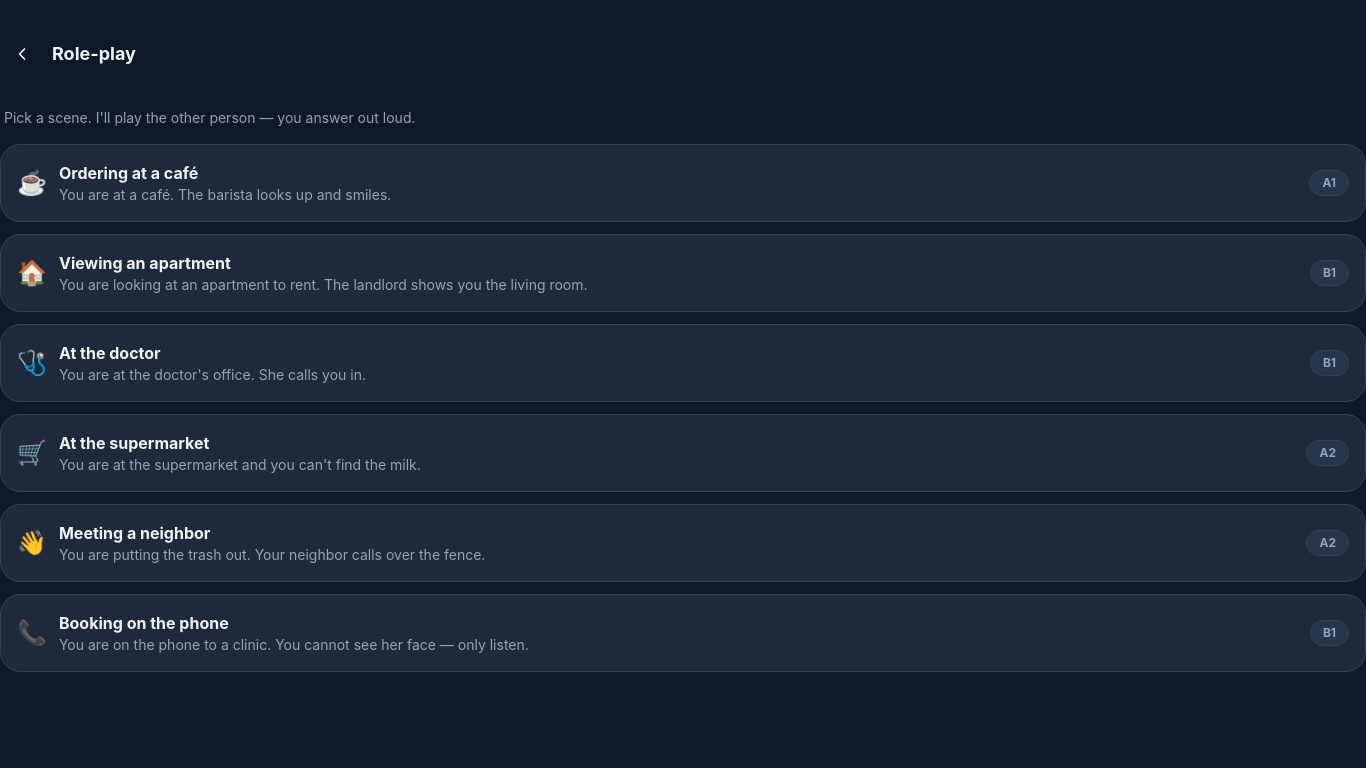
Test case: Role-play, one scene through to the end › runs the whole conversation and records one speaking rep per line of hers
Click the button with test id "roleplay-cafe" at {"x": 129, "y": 173}, box [0,144,1365,222]
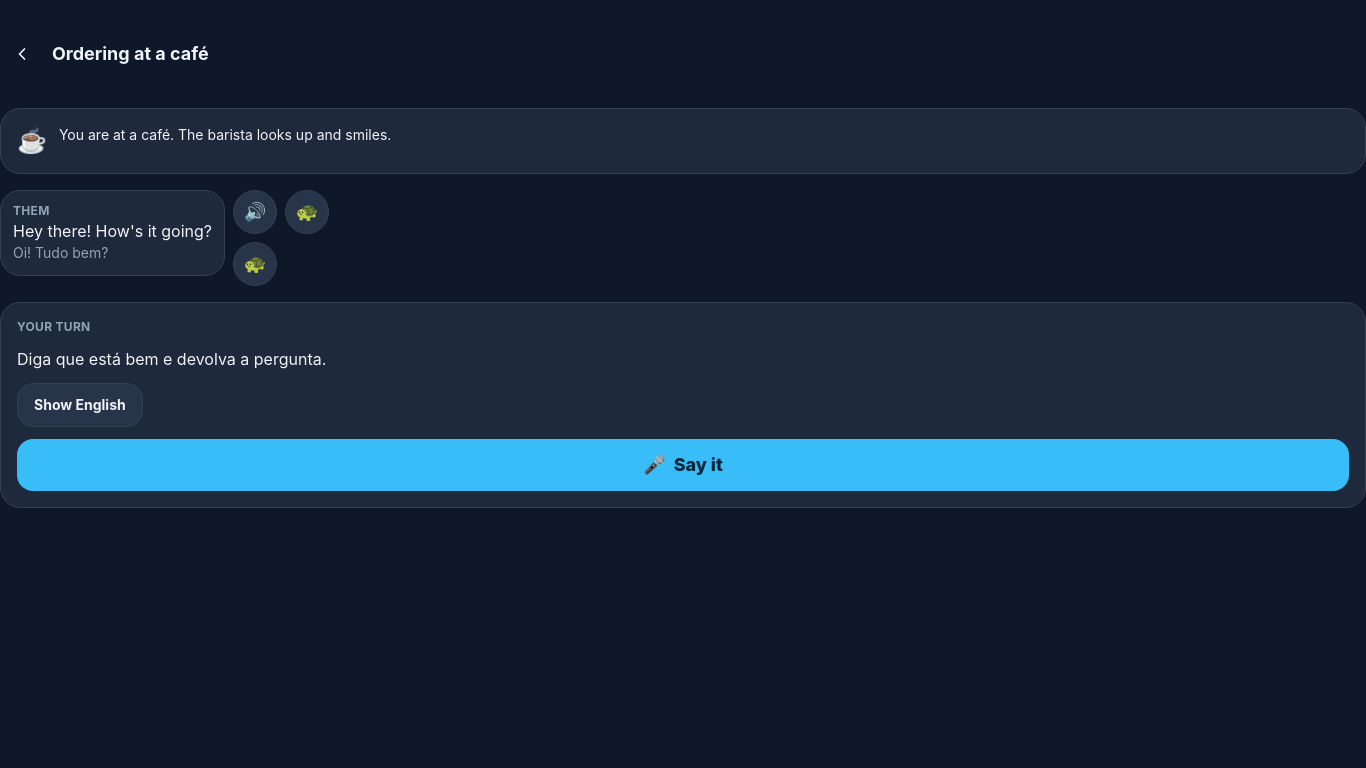
Click the button with test id "roleplay-say" at {"x": 683, "y": 465}, box [17,439,1349,491]
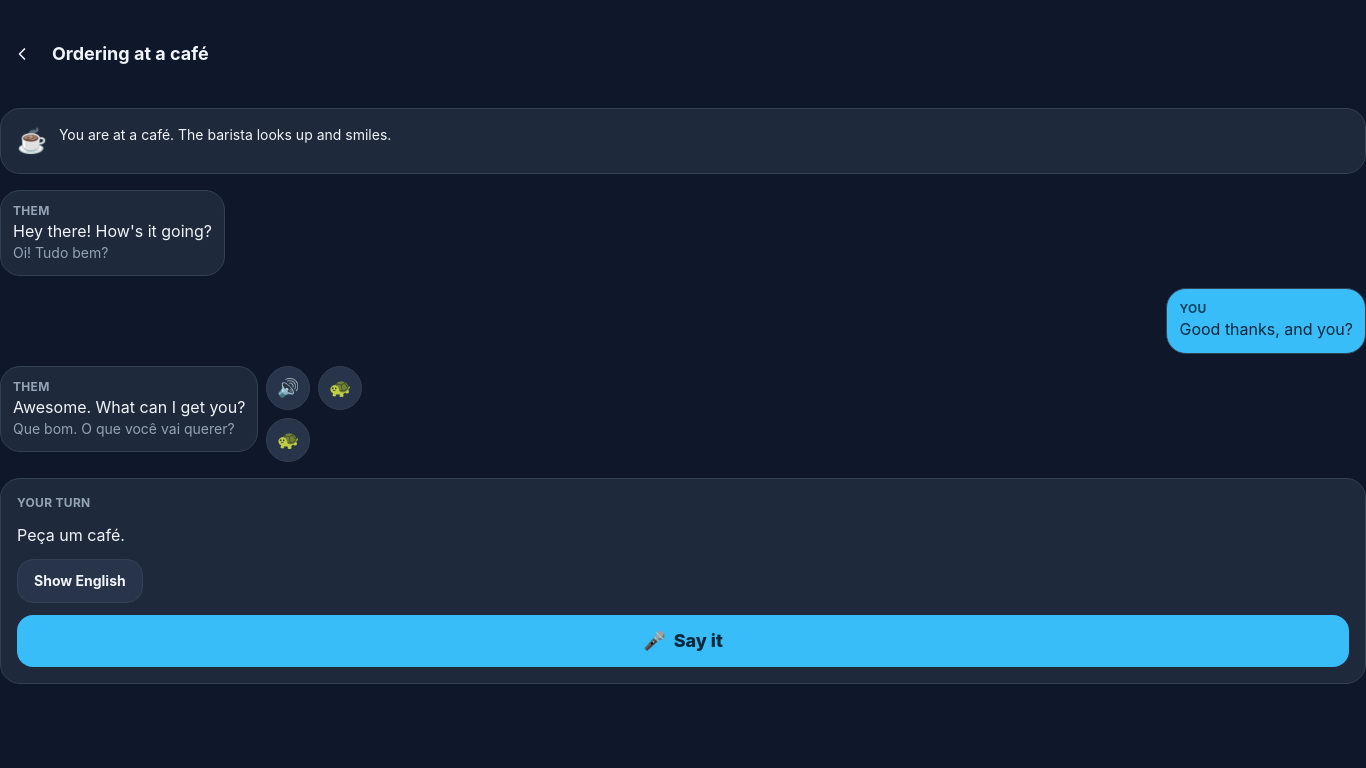
Click the button with test id "roleplay-say" at {"x": 683, "y": 641}, box [17,615,1349,667]
(page scrolled)
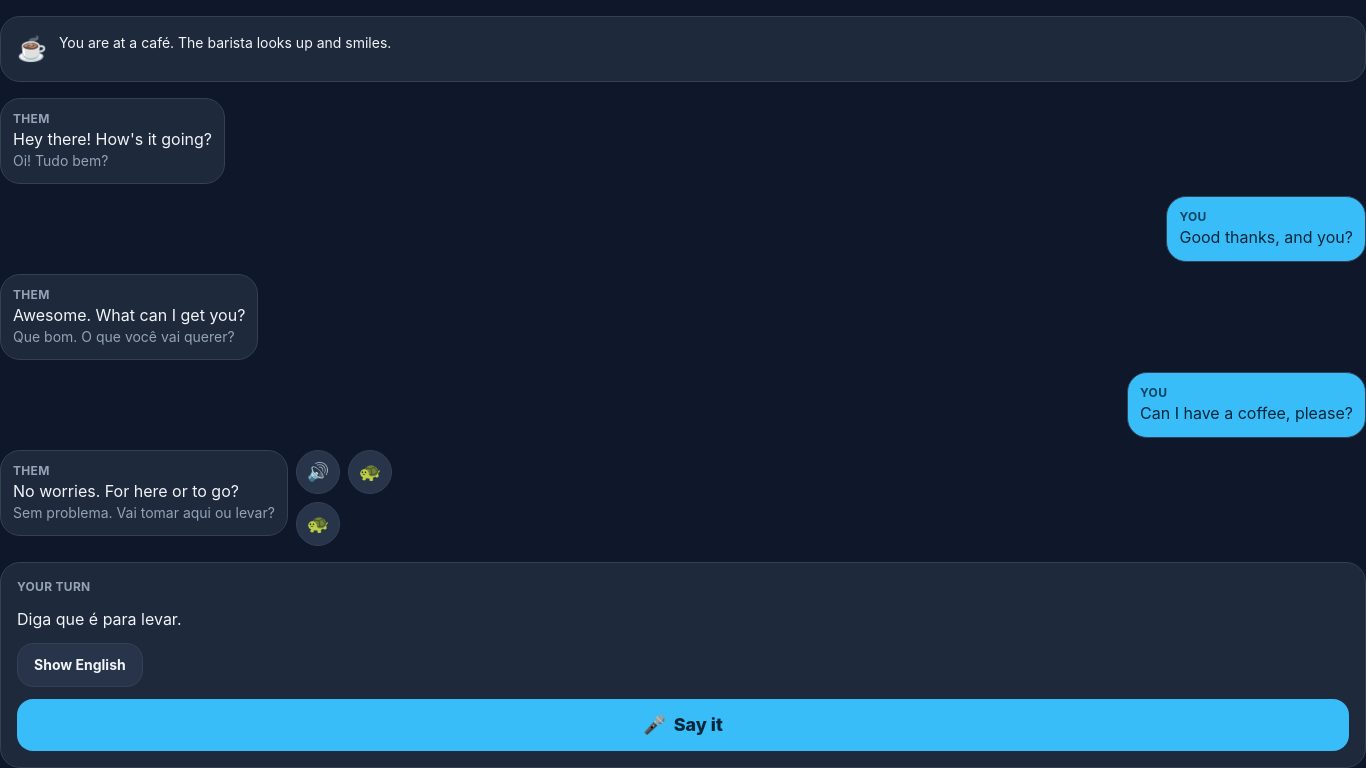
Click the button with test id "roleplay-say" at {"x": 683, "y": 725}, box [17,699,1349,751]
(page scrolled)
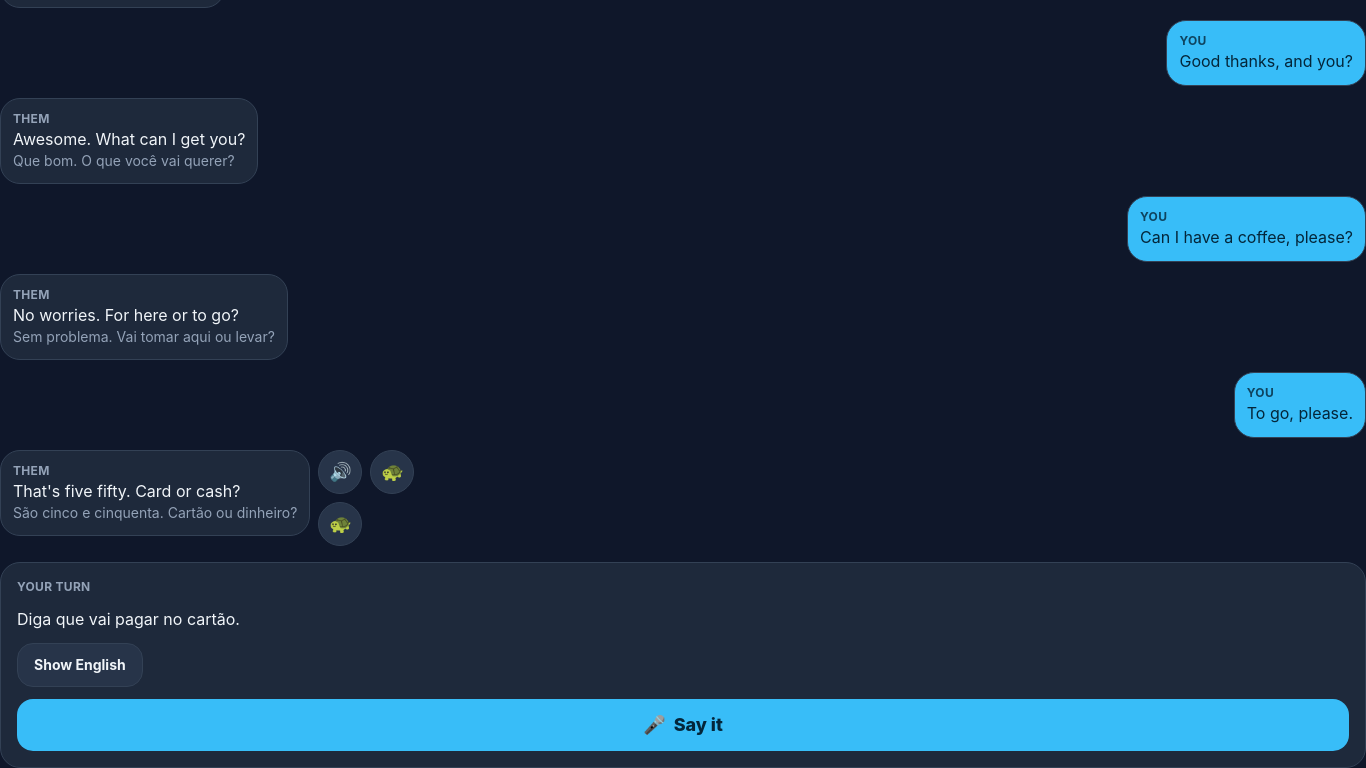
Click the button with test id "roleplay-say" at {"x": 683, "y": 725}, box [17,699,1349,751]
(page scrolled)
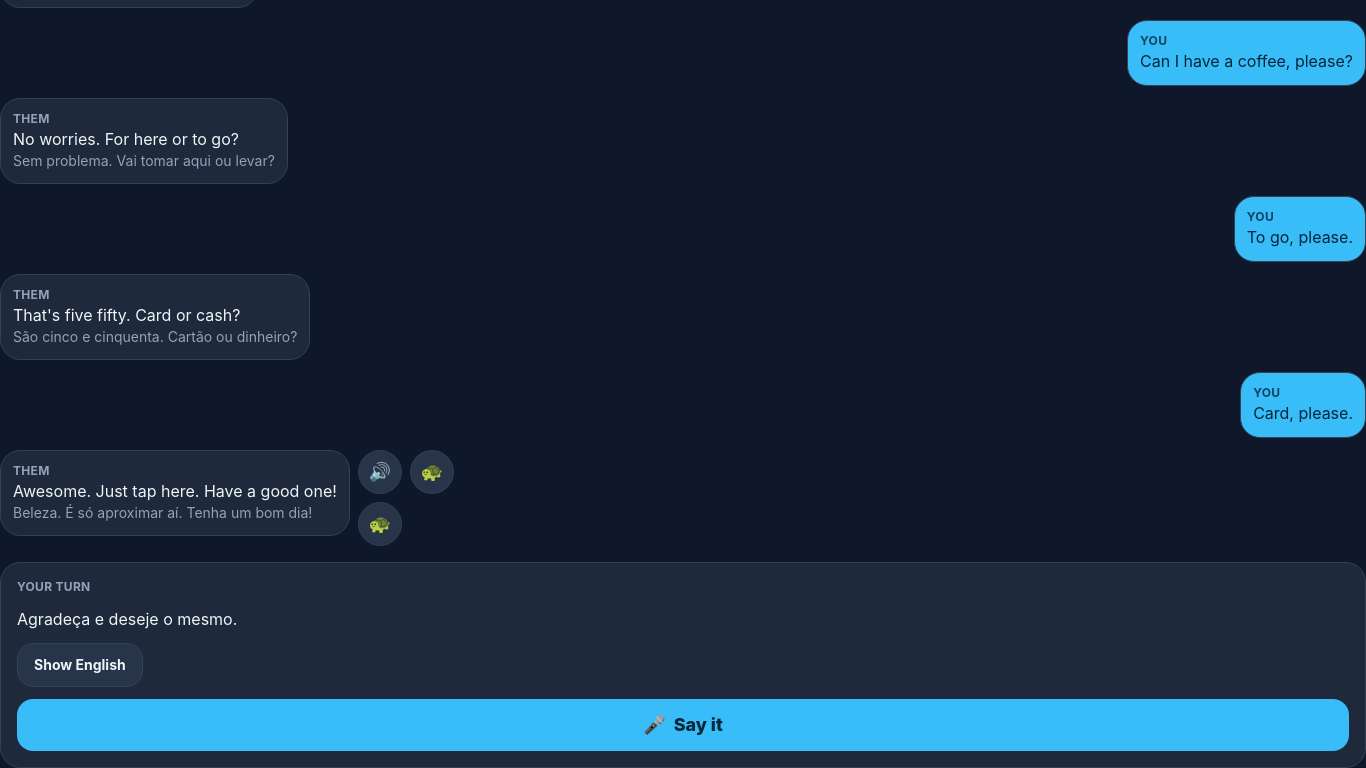
Click the button with test id "roleplay-say" at {"x": 683, "y": 725}, box [17,699,1349,751]
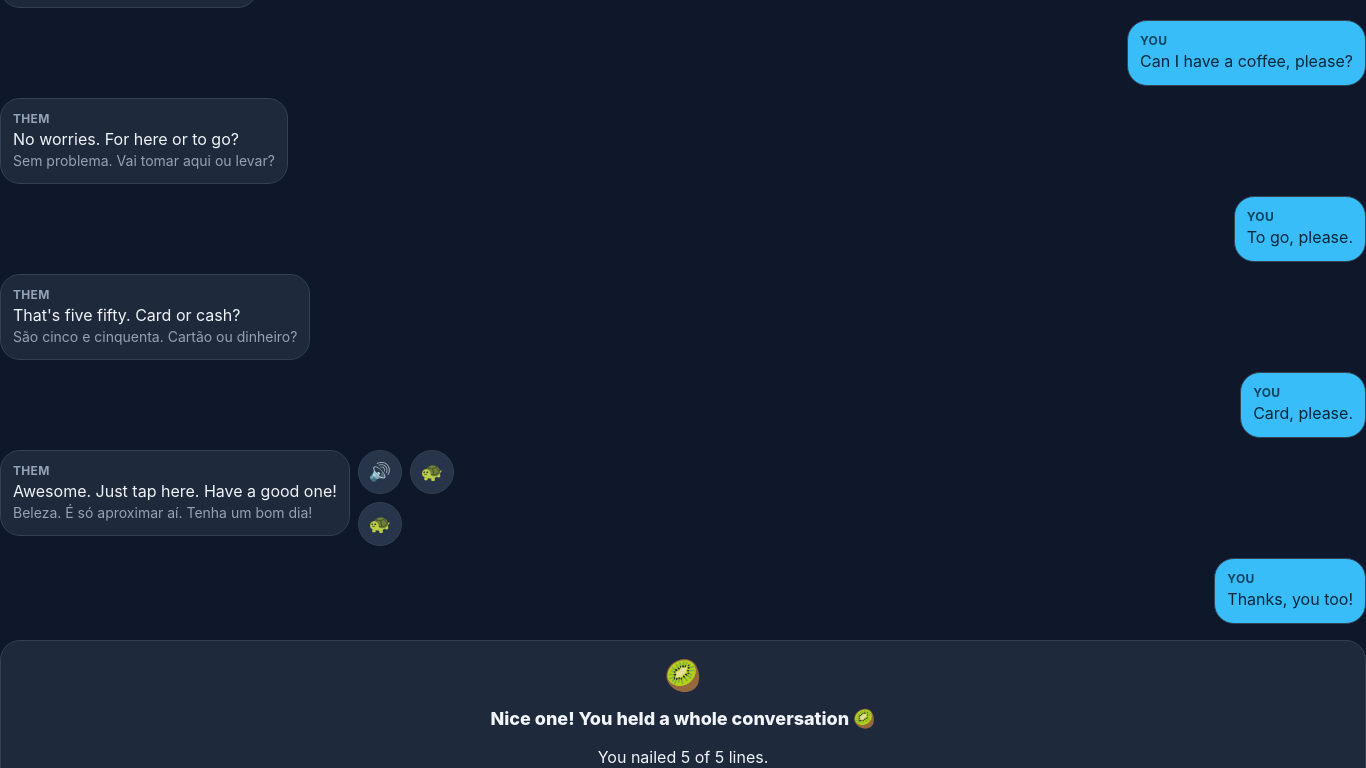
expect the text "Nice one! You held a whole conversation 🥝" is shown: met, box [490,705,876,733]
